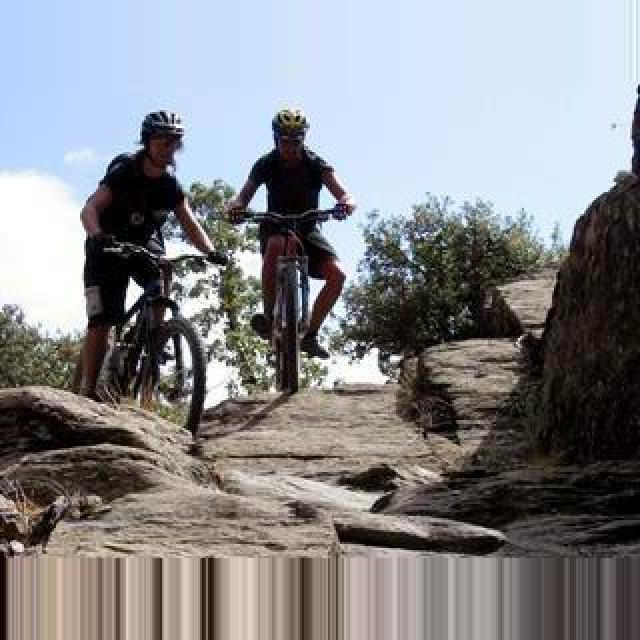MC-Bike: (78, 112, 218, 408), (224, 102, 356, 364)
Person: (77, 242, 219, 438), (235, 204, 333, 392)
